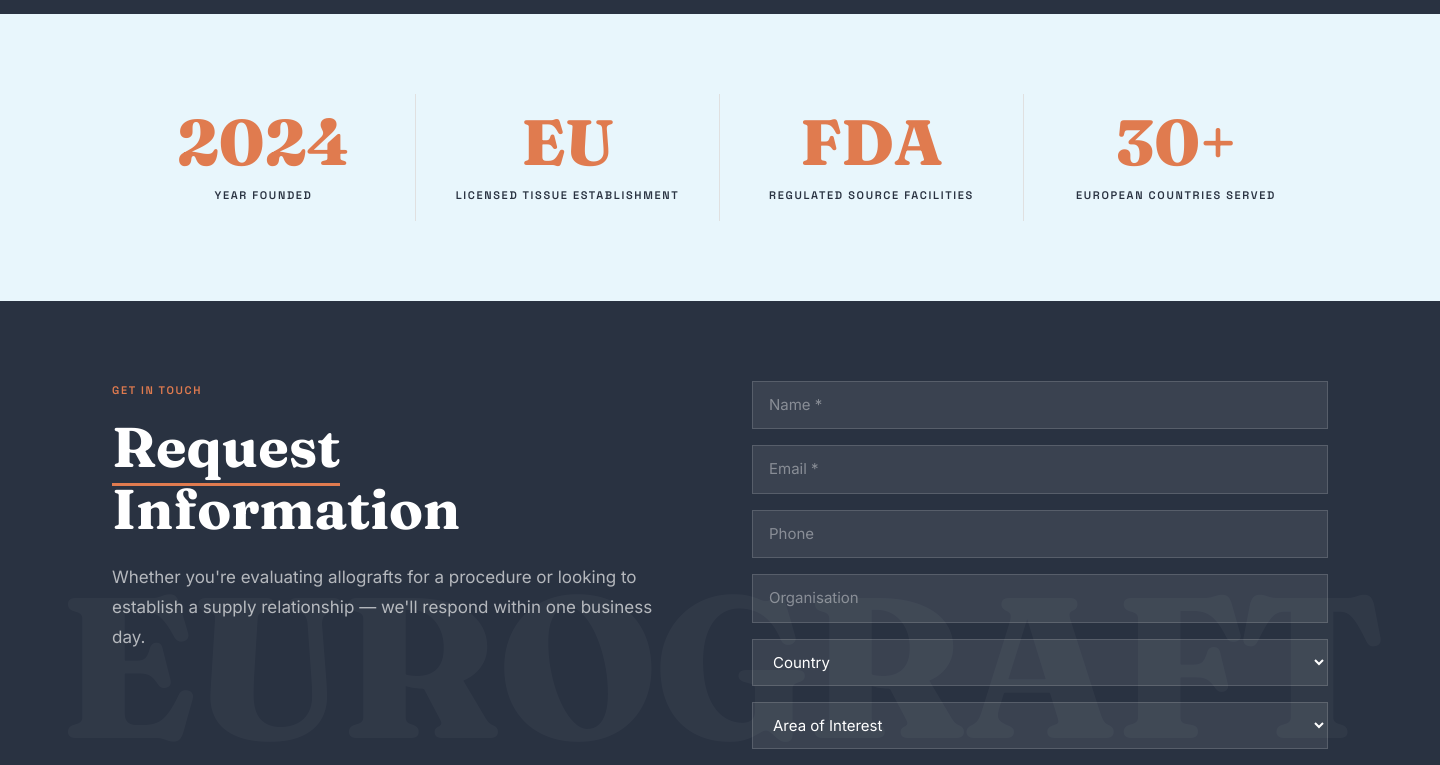
Contact form section › shows success message after successful form submission
The image size is (1440, 765).
(page scrolled)
In the field with placeholder "Name *": (1040, 405) [752,381,1328,429], type "Dr. Test"
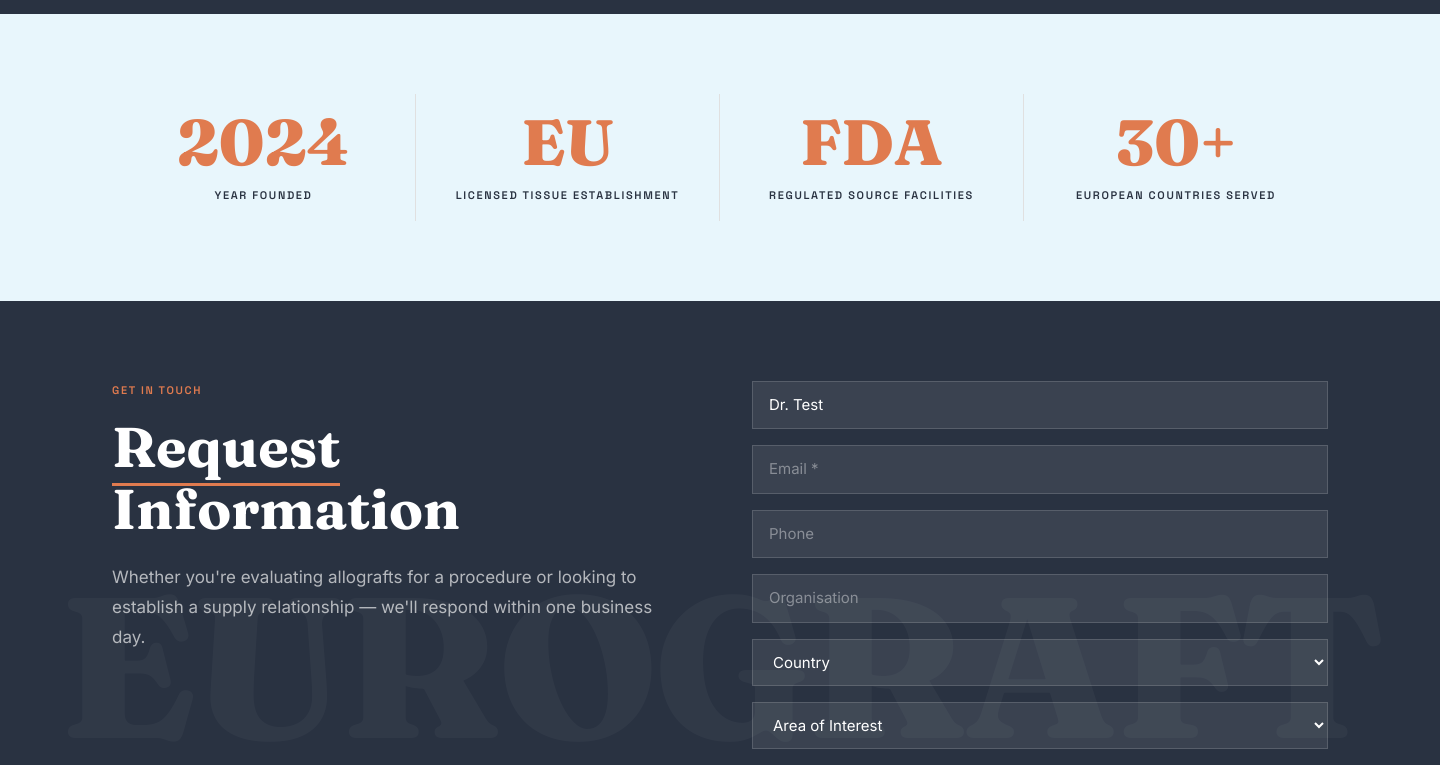
In the field with placeholder "Email *": (1040, 470) [752,445,1328,494], type "test@example.com"
(page scrolled)
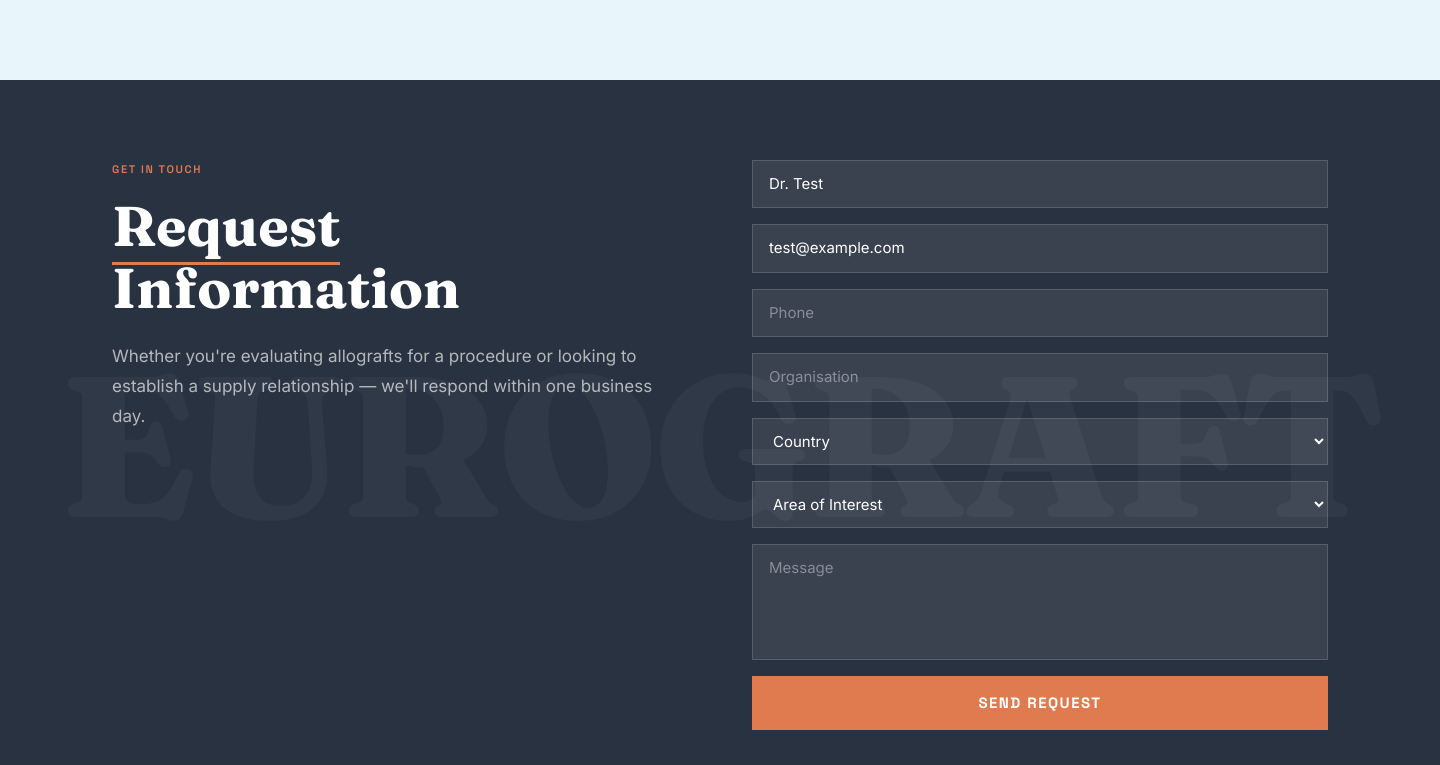
Click the button "Send Request": (1040, 703) [752,676,1328,730]
(page scrolled)
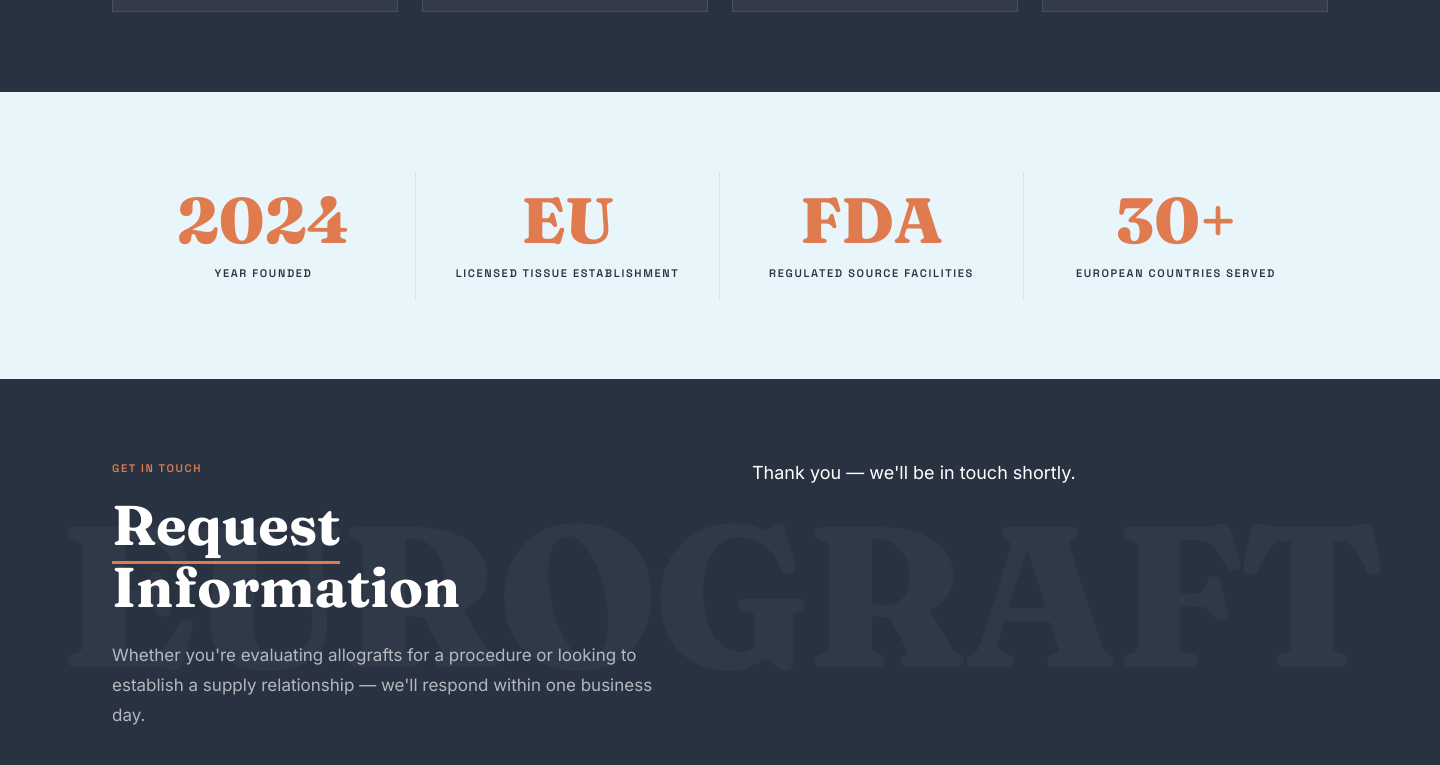
Check: the text "Thank you — we'll be in touch shortly." is shown, box [752,462,1076,483]
